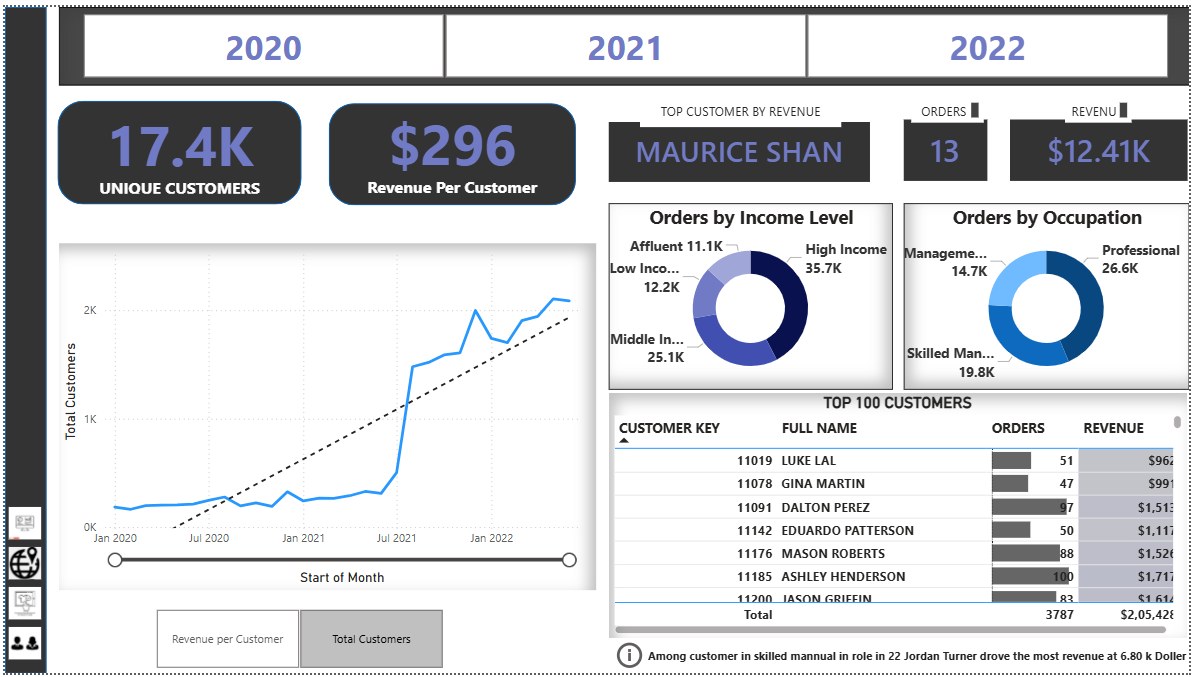

Layout of this report page (visuals, bound fields, positions):
{"tool":"powerbi","page":{"name":"Customer Details","canvas":[1280,720],"ordinal":3},"visuals":[{"type":"shape","box":[56.9,101.7,263.8,112.1],"z":0},{"type":"actionButton","box":[0,536.2,44.8,43.1],"z":0,"group":"g1"},{"type":"card","fields":{"Values":["Table Measures.Total Customers"]},"box":[74.1,106.9,229.3,100],"z":1000},{"type":"actionButton","box":[0,579.3,44.8,43.1],"z":1000,"group":"g1"},{"type":"shape","box":[350,103.4,267.2,110.3],"z":2000},{"type":"actionButton","box":[0,622.4,44.8,43.1],"z":2000,"group":"g1"},{"type":"card","fields":{"Values":["Table Measures.Average Revenue"]},"box":[350,105.2,267.2,101.7],"z":3000},{"type":"actionButton","box":[0,665.5,44.8,43.1],"z":3000,"group":"g1"},{"type":"lineChart","title":"CUSTOMERS TRENDING","fields":{"Category":["Calendar Lookup.Start of Year","Calendar Lookup.Start of Month","Calendar Lookup.Start of Week"],"Y":["Table Measures.Total Customers"]},"box":[58.6,255.2,581,374.1],"z":4000},{"type":"donutChart","title":"Orders by Income Level","fields":{"Category":["Customer Lookup.Income Level"],"Y":["Table Measures.Total Orders"]},"box":[652.6,212.3,307,201.8],"z":5000},{"type":"donutChart","title":"Orders by Occupation","fields":{"Category":["Customer Lookup.Occupation"],"Y":["Table Measures.Total Orders"]},"box":[971.9,212.3,308.8,201.8],"z":6000},{"type":"tableEx","title":"TOP 100 CUSTOMERS","fields":{"Values":["Customer Lookup.CustomerKey","Customer Lookup.Full Name","Table Measures.Total Orders","Table Measures.Total Revenue"]},"box":[652.6,417.5,624.6,264.9],"z":7000},{"type":"card","fields":{"Values":["Table Measures.Full Name (Customer Detail)"]},"box":[652.6,124.6,282.5,64.9],"z":8000},{"type":"card","fields":{"Values":["Table Measures.Total Orders (Customer Detail)"]},"box":[972,122,90,66],"z":9000},{"type":"card","fields":{"Values":["Table Measures.Total Revenue(Customer Detail)"]},"box":[1086,122,192,66],"z":10000},{"type":"textbox","box":[686,98.2,217.5,31.6],"z":11000},{"type":"textbox","box":[980,98,78,26],"z":12000},{"type":"textbox","box":[1146,98,72,26],"z":13000},{"type":"slicer","fields":{"Values":["Calendar Lookup.Year"]},"box":[58.6,0,1224.1,84.5],"z":14000},{"type":"actionButton","box":[656.1,682.5,624.6,36.8],"z":15000},{"type":"actionButton","box":[0,56.9,43.1,41.4],"z":16000},{"type":"shape","title":"Left nav bar","box":[0,0,44.8,720.7],"z":17000},{"type":"group","id":"g1","title":"Nav Buttons","box":[0,536.2,44.8,172.4],"z":18000},{"type":"slicer","fields":{"Values":["Customer Metric Solution.Customer Metric Solution"]},"box":[137.3,644.1,359.3,76.3],"z":18001}]}

Visuals, with their boxes in screenshot pixels (x1, y1, x2, y2), scaled from the page's 1280x720 canvas onto the 1192x677 screenshot:
shape: select_region(53, 96, 299, 201)
actionButton: select_region(0, 504, 42, 545)
card - Table Measures.Total Customers: select_region(69, 101, 283, 195)
actionButton: select_region(0, 545, 42, 585)
shape: select_region(326, 97, 575, 201)
actionButton: select_region(0, 585, 42, 626)
card - Table Measures.Average Revenue: select_region(326, 99, 575, 195)
actionButton: select_region(0, 626, 42, 666)
"CUSTOMERS TRENDING" lineChart: select_region(55, 240, 596, 592)
"Orders by Income Level" donutChart: select_region(608, 200, 894, 389)
"Orders by Occupation" donutChart: select_region(905, 200, 1191, 389)
"TOP 100 CUSTOMERS" tableEx: select_region(608, 393, 1189, 642)
card - Table Measures.Full Name (Customer Detail): select_region(608, 117, 871, 178)
card - Table Measures.Total Orders (Customer Detail): select_region(905, 115, 989, 177)
card - Table Measures.Total Revenue(Customer Detail): select_region(1011, 115, 1190, 177)
textbox: select_region(639, 92, 841, 122)
textbox: select_region(913, 92, 985, 117)
textbox: select_region(1067, 92, 1134, 117)
slicer - Calendar Lookup.Year: select_region(55, 0, 1191, 79)
actionButton: select_region(611, 642, 1191, 676)
actionButton: select_region(0, 54, 40, 92)
"Left nav bar" shape: select_region(0, 0, 42, 676)
"Nav Buttons" group: select_region(0, 504, 42, 666)
slicer - Customer Metric Solution.Customer Metric Solution: select_region(128, 606, 462, 676)
